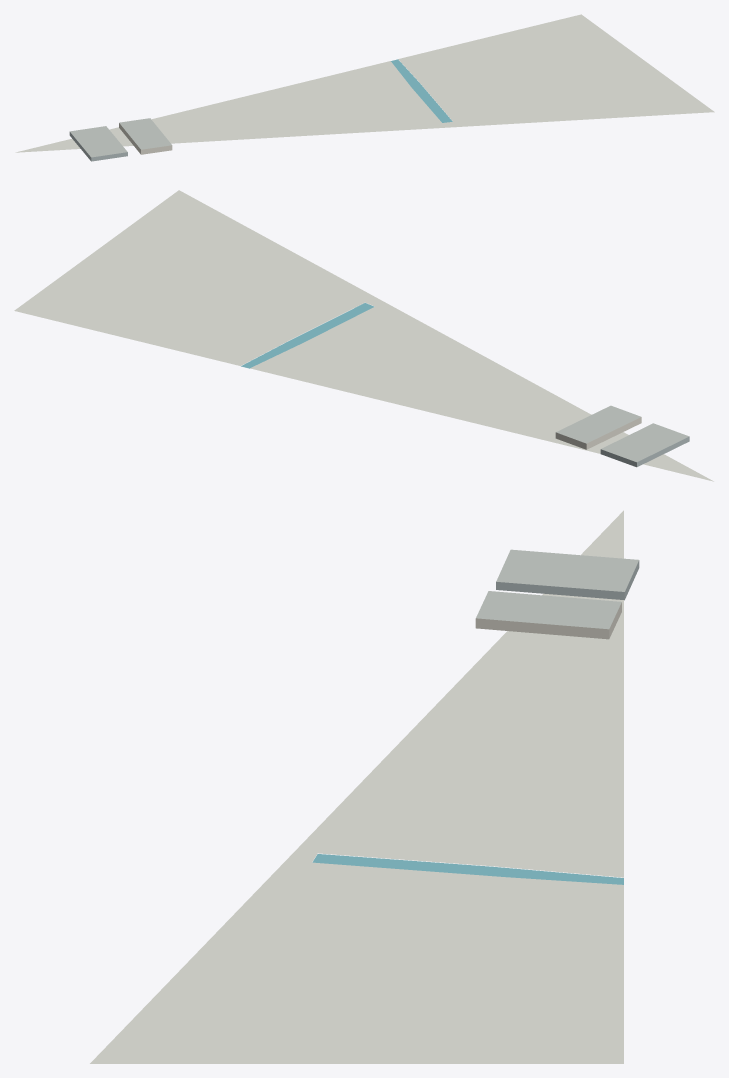
The picture shows the model from 3 angles, top to bottom: view 1: azimuth 30°, elevation 25°; view 2: azimuth 150°, elevation 25°; view 3: azimuth 270°, elevation 25°; orthographic projection. The views are drawn at different scales.
Parts seen in each view (by area): view 1: city; view 2: city; view 3: city.
Part boxes in pixels (x1,y1,x2,y2): city: (15,14,714,161); city: (14,190,713,481); city: (90,510,639,1063).
Bounding box in the file's own units: 490 × 4.38 × 206.
